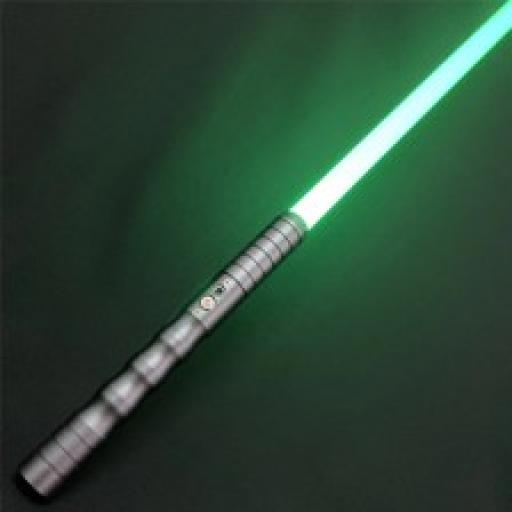lightsaber: (20, 0, 512, 493)
